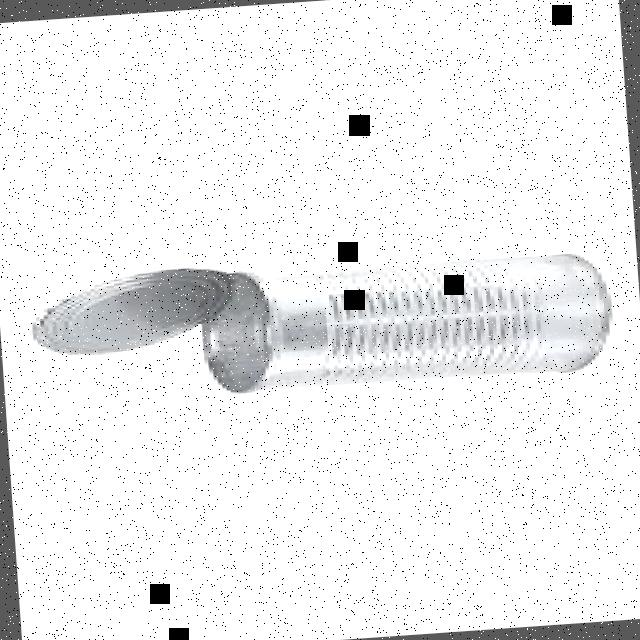can: (23, 236, 620, 412)
